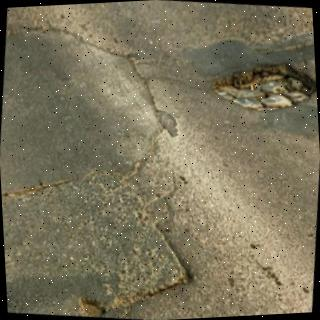pothole: (212, 63, 315, 111)
